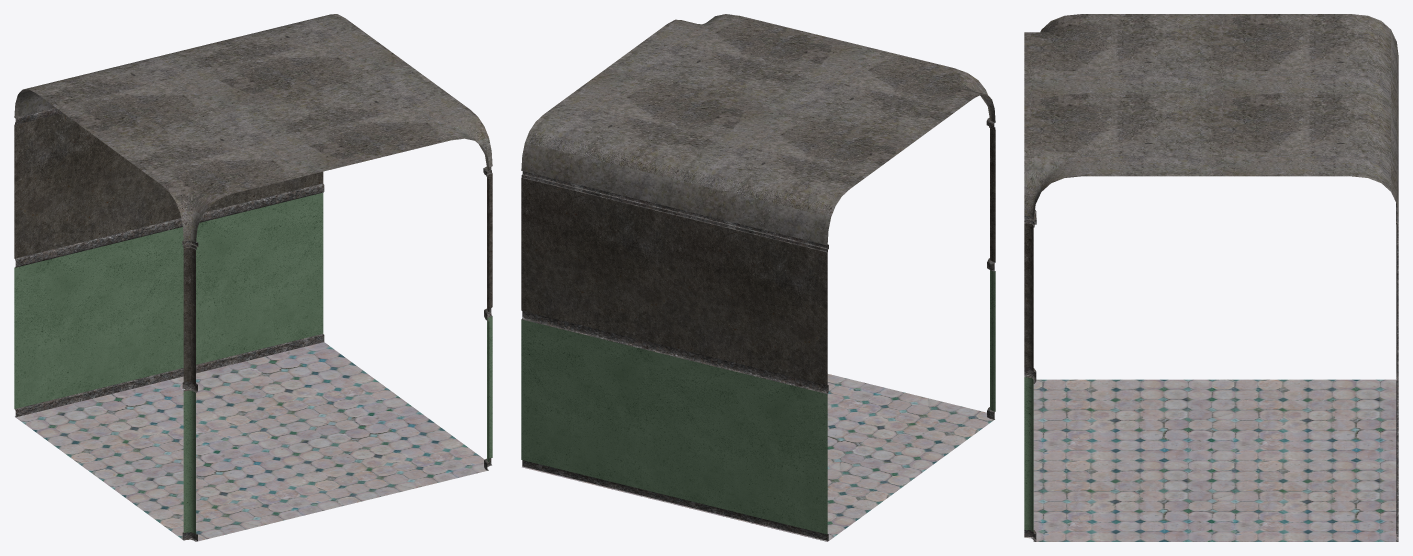
File: CorridorBlockThreeSide.FBX
3 renders of one model, left to right at view 1: azimuth 30°, elevation 25°; view 2: azimuth 150°, elevation 25°; view 3: azimuth 270°, elevation 25°, orthographic. The views are drawn at different scales.
Visible parts, largest first — view 1: ThreeSide; view 2: ThreeSide; view 3: ThreeSide.
Boxes of the visible parts, x1,y1,x2,y2 form: ThreeSide: (14,14,492,541); ThreeSide: (521,14,995,541); ThreeSide: (1024,14,1398,541).
Bounding box in the file's own units: 78.74 × 82.67 × 76.77.
